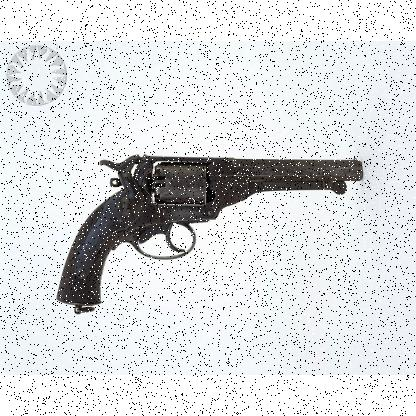gun: (55, 152, 365, 314)
